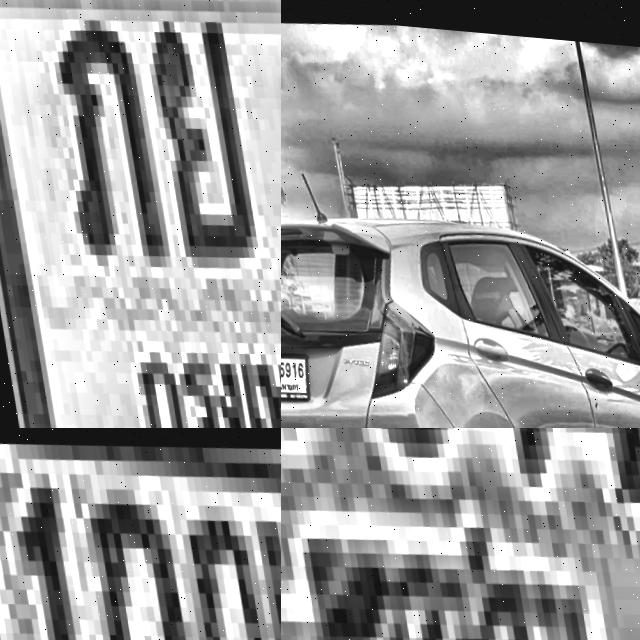license-plate: (0, 0, 281, 428), (281, 428, 640, 640), (0, 428, 281, 640), (281, 340, 305, 403)
